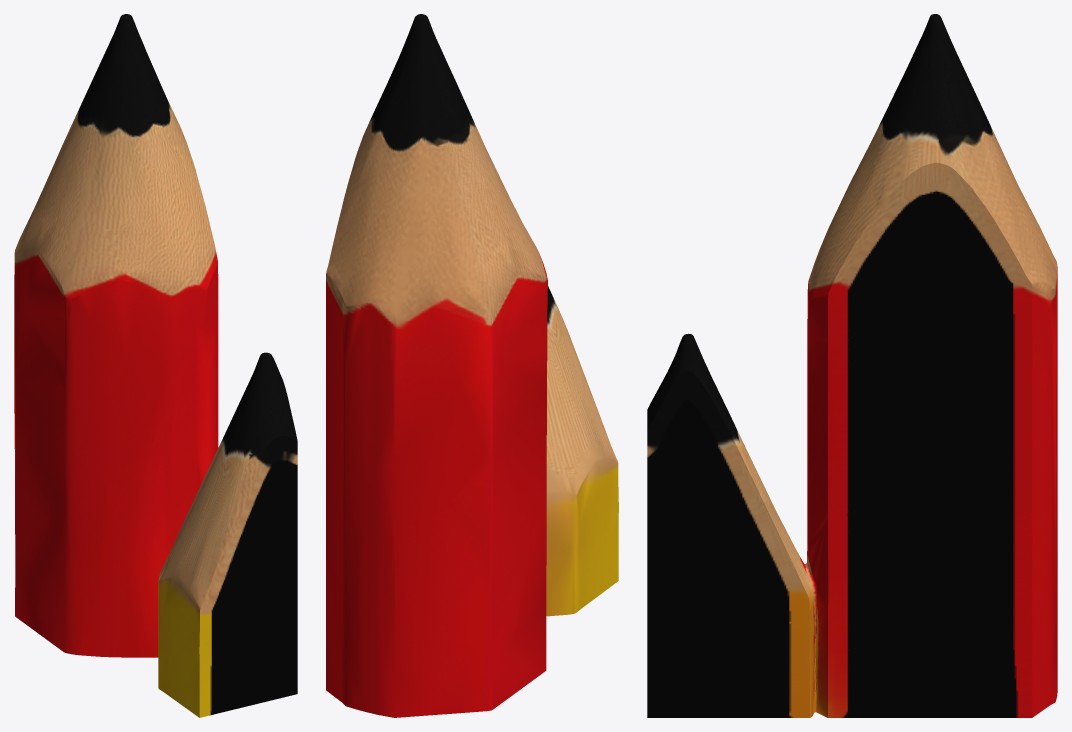
Rendered from 15-topper-back-left.fbx.
3 views of the same model, side by side, from view 1: azimuth 30°, elevation 25°; view 2: azimuth 150°, elevation 25°; view 3: azimuth 270°, elevation 25° (orthographic). The views are drawn at different scales.
Visible parts, largest first — view 1: topper-back-left; view 2: topper-back-left; view 3: topper-back-left.
Part boxes in pixels (left/top/right/bottom): topper-back-left: left=14, top=14, right=297, bottom=717; topper-back-left: left=326, top=14, right=618, bottom=717; topper-back-left: left=647, top=14, right=1057, bottom=717.
Bounding box in the file's own units: 1519 × 6515 × 3576.
1 material, 1 textured.
